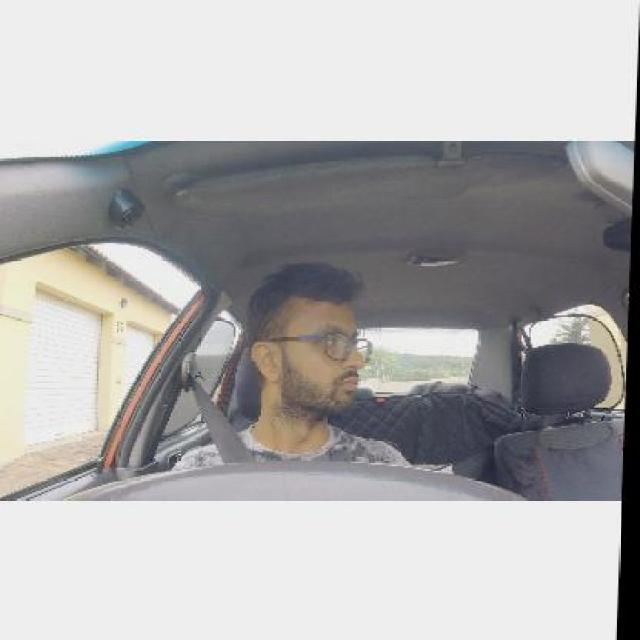LeftRight: (242, 264, 377, 419)
